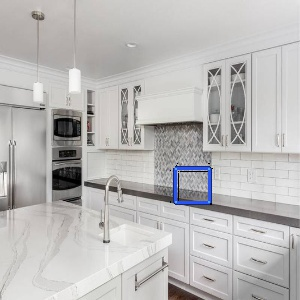square: (172, 165, 214, 207)
